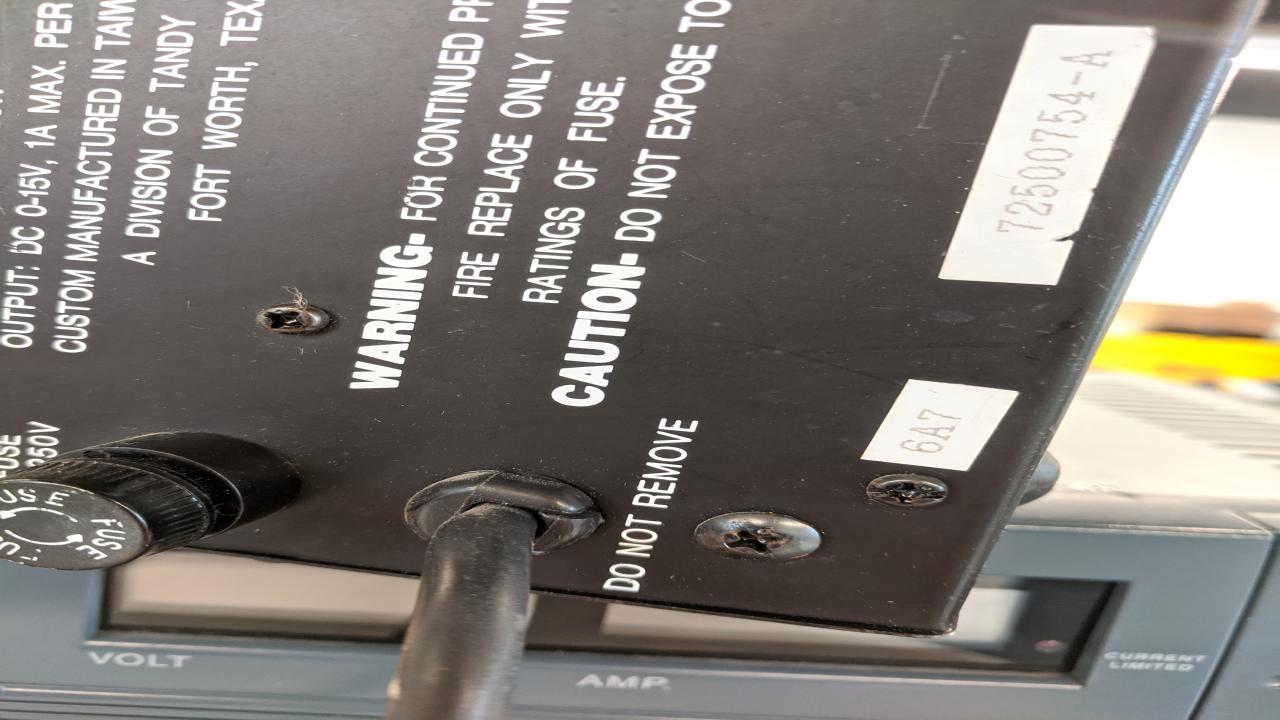CRS: (688, 513, 827, 562), (857, 474, 949, 507), (248, 305, 328, 334)
